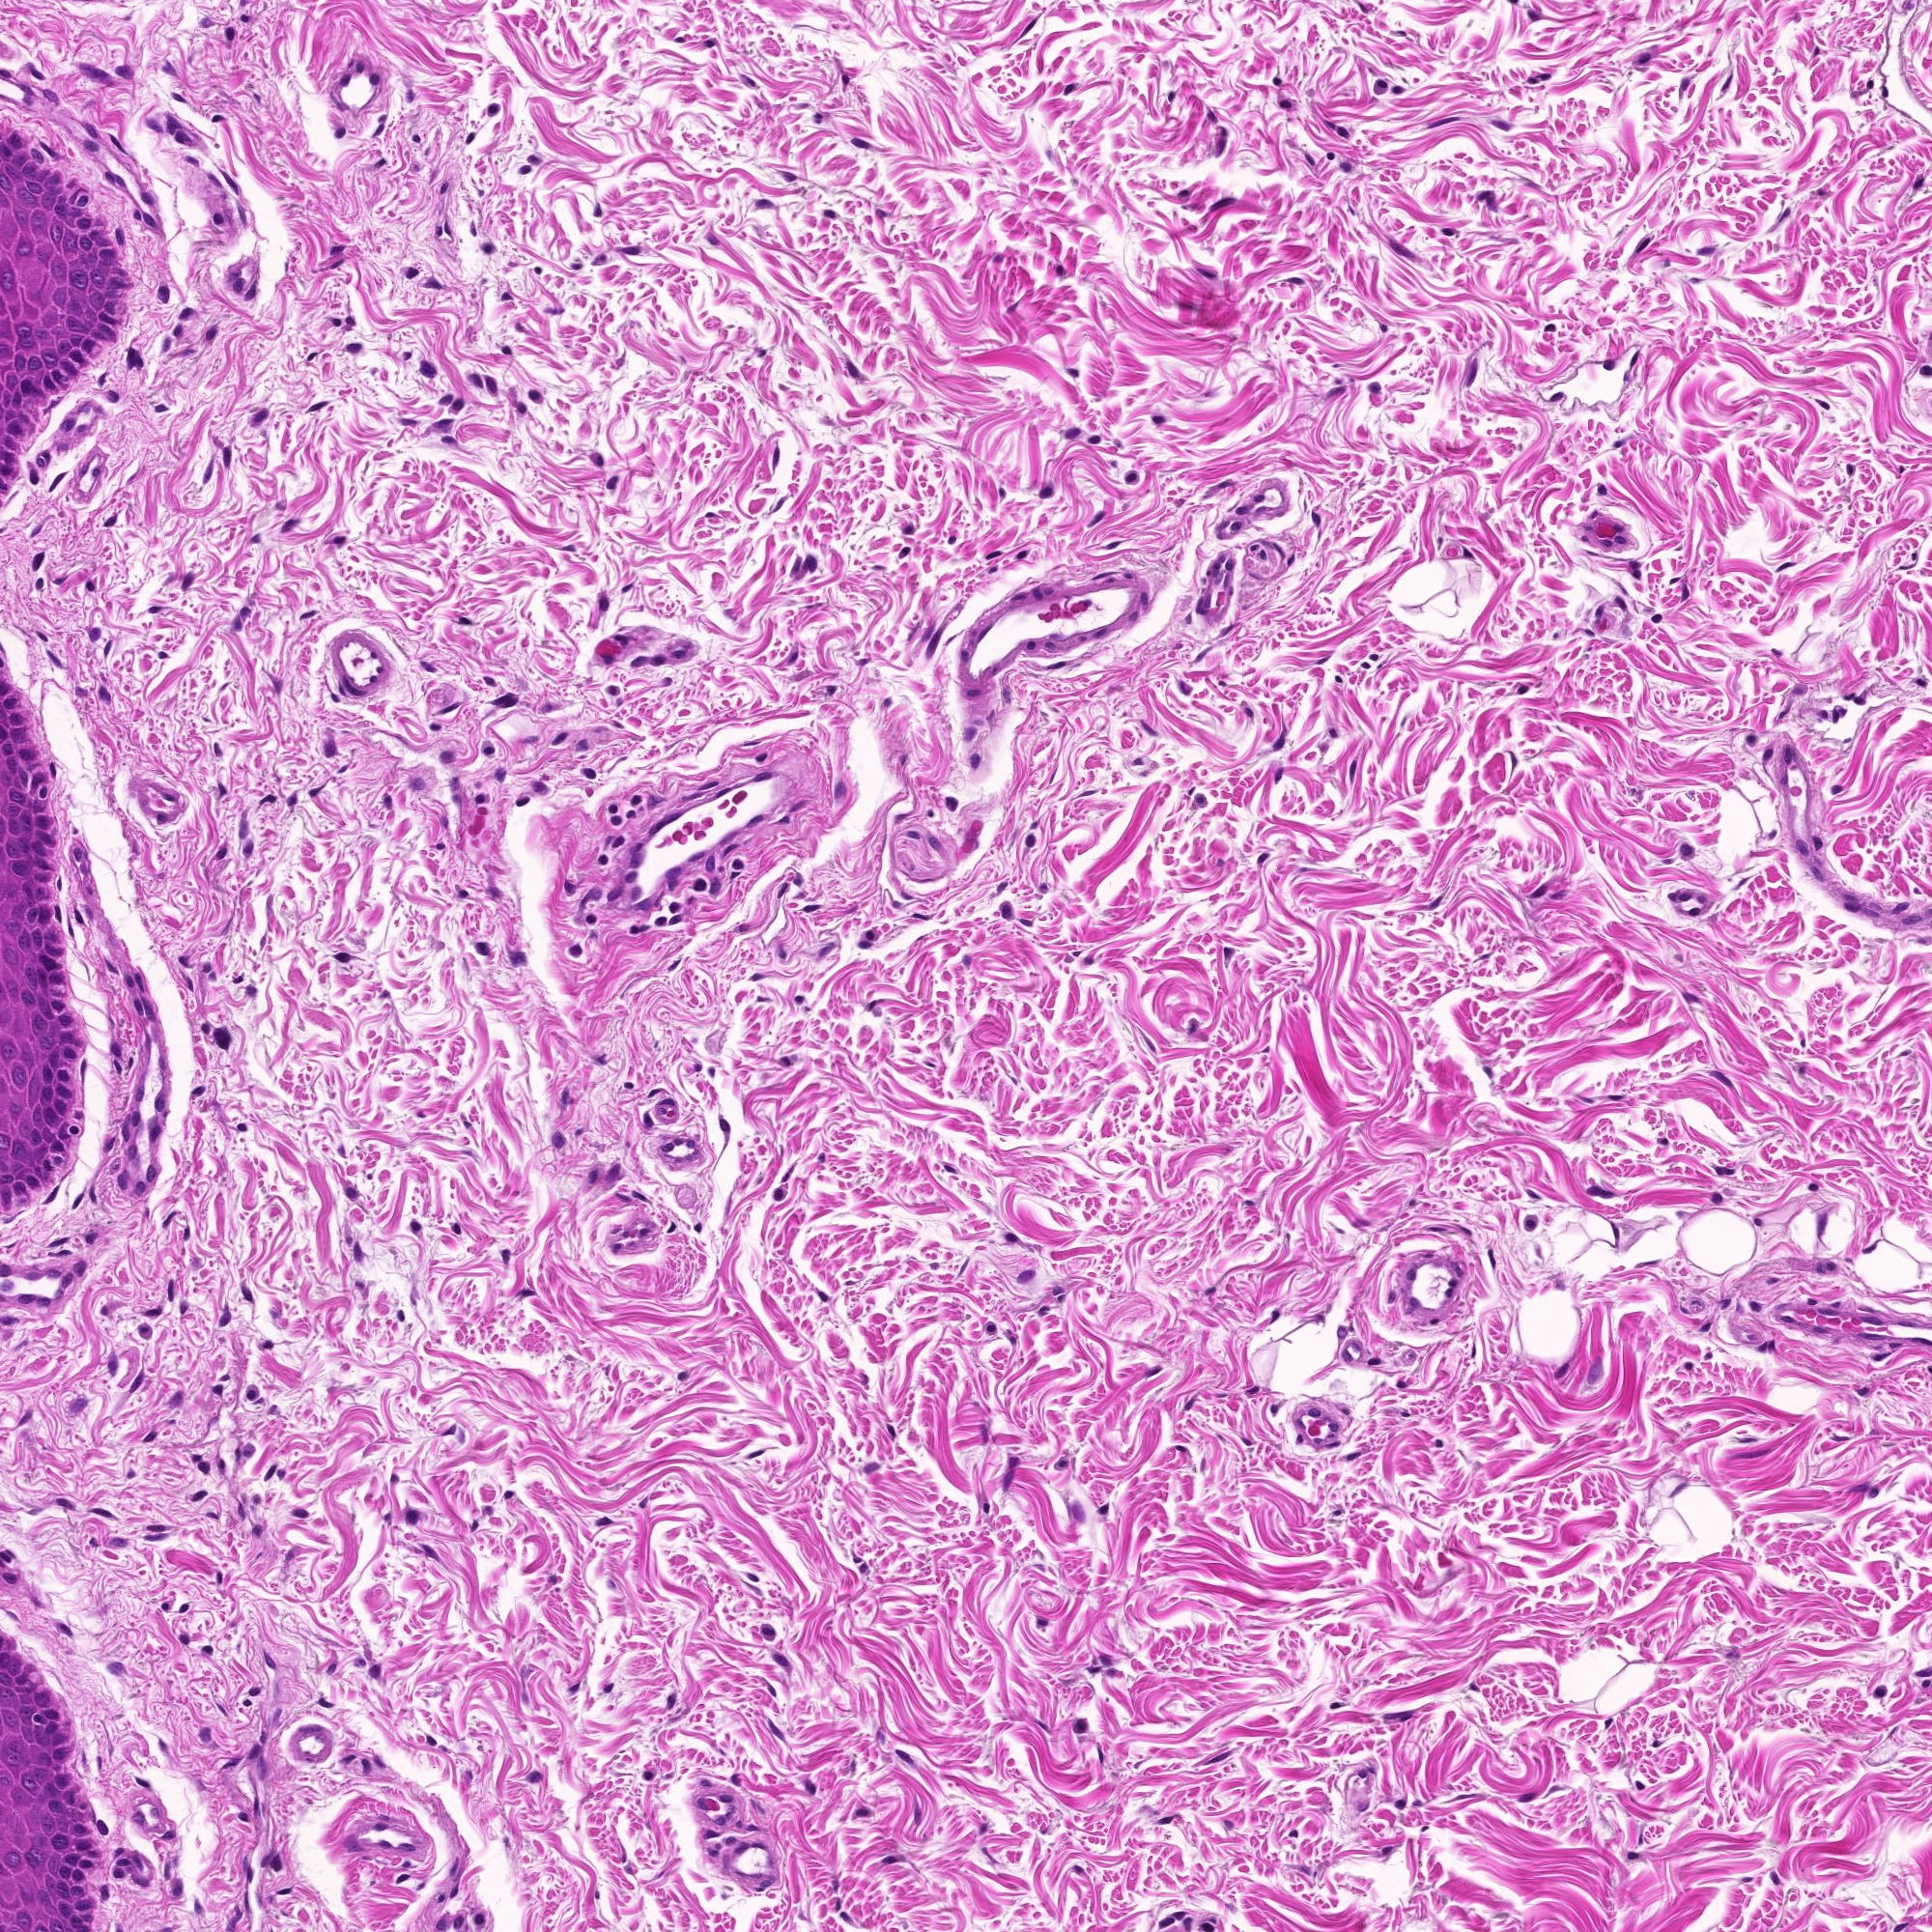epithelial: (18, 754, 50, 787), (41, 1031, 73, 1065), (1207, 464, 1240, 495), (71, 329, 103, 361), (18, 349, 50, 380), (4, 345, 35, 377), (101, 267, 133, 299), (35, 341, 67, 373), (7, 405, 39, 437), (57, 308, 88, 340), (37, 165, 69, 196), (58, 290, 90, 322), (25, 161, 57, 193), (7, 232, 39, 264), (25, 318, 57, 350), (65, 198, 97, 230), (27, 241, 58, 272), (81, 318, 113, 350), (41, 184, 73, 216), (4, 373, 35, 405), (18, 384, 50, 416), (88, 246, 120, 278), (58, 180, 90, 212), (14, 295, 46, 327), (35, 152, 67, 184), (4, 853, 35, 885), (25, 828, 57, 860), (9, 805, 41, 837), (19, 791, 51, 823), (30, 941, 62, 973), (11, 764, 42, 796), (2, 780, 34, 812), (25, 847, 57, 879), (23, 878, 55, 909), (25, 915, 57, 947), (2, 713, 34, 745), (12, 874, 44, 906), (35, 920, 67, 952), (12, 893, 44, 925), (11, 847, 42, 879), (18, 869, 50, 901), (12, 786, 44, 817), (0, 941, 32, 973), (127, 786, 159, 817), (12, 982, 44, 1014), (30, 1077, 62, 1109), (30, 1056, 62, 1088), (34, 1100, 65, 1132), (4, 1173, 35, 1205), (35, 1125, 67, 1157), (11, 1157, 42, 1189), (27, 987, 58, 1019), (34, 1139, 65, 1171), (62, 1389, 94, 1421), (39, 1083, 71, 1115), (161, 1382, 193, 1414), (34, 1067, 65, 1099), (25, 1016, 57, 1047), (25, 1063, 57, 1095), (27, 1093, 58, 1125), (27, 1106, 58, 1138), (2, 1012, 34, 1044), (44, 1737, 76, 1769), (46, 1872, 78, 1904), (34, 1691, 65, 1723), (7, 1900, 39, 1932), (28, 1882, 60, 1914), (65, 1789, 97, 1821), (34, 1783, 65, 1815), (35, 1874, 67, 1905), (216, 1746, 248, 1778), (391, 1831, 423, 1863), (12, 1652, 44, 1684), (57, 1888, 88, 1920), (27, 1752, 58, 1783), (34, 1734, 65, 1766), (292, 1741, 324, 1773), (71, 1865, 103, 1897), (2, 1821, 34, 1852), (27, 1803, 58, 1835), (28, 1776, 60, 1808), (678, 780, 709, 812), (750, 1867, 782, 1898), (835, 1750, 867, 1782), (510, 1656, 541, 1688), (996, 292, 1028, 324), (1185, 295, 1217, 327), (1031, 464, 1063, 495), (1037, 593, 1069, 625), (968, 1415, 1000, 1447), (1346, 1790, 1378, 1822), (1401, 1569, 1433, 1601), (1895, 904, 1927, 936), (1782, 674, 1813, 706), (1569, 520, 1601, 552), (1852, 1304, 1884, 1336), (1854, 1320, 1886, 1352), (1681, 1286, 1713, 1318), (1798, 1300, 1829, 1332), (11, 387, 41, 421), (11, 329, 41, 363), (69, 265, 103, 295), (12, 904, 42, 938), (18, 991, 48, 1024), (73, 1835, 106, 1865), (1580, 1353, 1610, 1387), (12, 370, 42, 402), (34, 364, 64, 396), (69, 207, 99, 239), (42, 361, 73, 393), (55, 352, 85, 384), (90, 303, 122, 333), (44, 195, 76, 225), (18, 166, 48, 198), (21, 140, 51, 172), (60, 264, 92, 294), (25, 373, 57, 403), (9, 320, 39, 352), (81, 221, 111, 253), (2, 384, 32, 416), (92, 239, 124, 269), (5, 143, 35, 175), (48, 333, 80, 363), (60, 324, 92, 354), (67, 184, 97, 216), (92, 290, 124, 320), (0, 414, 30, 446), (4, 133, 34, 165), (55, 230, 85, 262), (35, 386, 65, 418), (73, 244, 103, 276), (50, 345, 81, 375), (44, 255, 74, 287), (44, 352, 76, 382), (27, 361, 58, 391), (42, 218, 73, 249), (12, 180, 44, 211), (76, 299, 108, 329), (9, 138, 41, 168), (23, 207, 55, 237), (88, 228, 120, 258), (5, 311, 35, 343), (104, 257, 134, 288), (51, 165, 81, 196), (21, 280, 51, 311), (76, 214, 106, 246), (80, 237, 111, 267), (19, 366, 51, 396), (65, 255, 96, 287), (50, 258, 81, 288), (58, 212, 90, 242), (48, 225, 78, 257), (2, 295, 34, 326), (28, 172, 60, 202), (4, 400, 34, 432), (81, 274, 111, 306), (18, 237, 50, 267), (32, 899, 62, 931), (19, 922, 51, 952), (11, 750, 41, 782), (21, 899, 51, 931), (32, 823, 64, 853), (37, 934, 69, 964), (27, 775, 58, 805), (2, 895, 34, 925), (27, 931, 58, 961), (5, 743, 35, 775), (4, 754, 34, 786), (11, 858, 41, 890), (19, 812, 50, 844), (2, 916, 34, 947), (62, 837, 92, 869), (9, 720, 39, 752), (21, 939, 51, 971), (5, 798, 37, 828), (11, 773, 41, 805), (4, 770, 34, 801), (4, 729, 35, 759), (12, 821, 44, 851), (16, 885, 46, 916), (5, 816, 35, 847), (73, 876, 104, 906), (12, 936, 44, 966), (51, 1021, 81, 1053), (19, 962, 50, 994), (50, 1005, 81, 1035), (42, 1131, 73, 1162), (16, 1166, 48, 1196), (48, 1058, 78, 1090), (46, 1090, 76, 1122), (28, 1148, 60, 1178), (48, 1076, 78, 1108), (35, 964, 65, 996), (19, 1122, 51, 1152), (4, 1134, 35, 1164), (39, 1044, 69, 1076), (48, 1116, 78, 1148), (4, 1060, 34, 1092), (30, 996, 62, 1026), (19, 1146, 51, 1177), (21, 1100, 53, 1131), (32, 1026, 62, 1058), (27, 1157, 57, 1189), (44, 1017, 76, 1047), (11, 1146, 41, 1178), (108, 1164, 138, 1196), (25, 1131, 55, 1162), (18, 1069, 50, 1099), (0, 1095, 30, 1127), (41, 1106, 71, 1138), (12, 1116, 44, 1146), (2, 1154, 34, 1184), (113, 1108, 143, 1139), (12, 959, 44, 989), (5, 978, 35, 1010), (19, 1079, 51, 1109), (27, 975, 58, 1005), (41, 1053, 71, 1085), (5, 1184, 37, 1214), (57, 1056, 87, 1088), (44, 1824, 74, 1856), (71, 1847, 101, 1879), (57, 1842, 87, 1874), (62, 1859, 92, 1891), (46, 1766, 78, 1796), (55, 1782, 87, 1812), (50, 1856, 80, 1888), (25, 1702, 55, 1734), (18, 1844, 48, 1875), (338, 1829, 368, 1861), (11, 1675, 41, 1707), (41, 1771, 71, 1803), (21, 1759, 51, 1790), (41, 1720, 73, 1750), (27, 1723, 57, 1755), (28, 1743, 60, 1773), (14, 1762, 44, 1794), (19, 1686, 50, 1718), (28, 1709, 58, 1741), (39, 1849, 69, 1881), (2, 1845, 32, 1877), (0, 1736, 30, 1767), (58, 1828, 88, 1859), (48, 1725, 78, 1757), (25, 1826, 57, 1856), (124, 1801, 154, 1833), (12, 1881, 42, 1913), (50, 1882, 80, 1914), (50, 1833, 80, 1865), (0, 1647, 30, 1679), (48, 1787, 80, 1817), (241, 1790, 272, 1821), (48, 1808, 78, 1840), (44, 1902, 76, 1932), (18, 1667, 48, 1698), (19, 1833, 50, 1865), (58, 1794, 88, 1826), (30, 1764, 62, 1794), (2, 1746, 32, 1778), (48, 1748, 78, 1780), (426, 1900, 456, 1932), (71, 1799, 103, 1829), (73, 1877, 103, 1909), (453, 1760, 485, 1790), (21, 1780, 53, 1810), (35, 1863, 67, 1893), (30, 1893, 60, 1925), (248, 1755, 280, 1785), (113, 1851, 143, 1882), (5, 1773, 37, 1803), (628, 888, 658, 920), (824, 773, 855, 805), (886, 743, 918, 773), (786, 660, 817, 690), (796, 591, 828, 621), (628, 1217, 660, 1247), (708, 1803, 738, 1835), (713, 1794, 743, 1826), (713, 1812, 745, 1842), (1194, 272, 1224, 304), (1035, 628, 1065, 660), (1003, 582, 1035, 612), (1210, 571, 1240, 603), (991, 678, 1021, 709), (1100, 561, 1132, 591), (975, 701, 1005, 732), (1113, 559, 1143, 591), (1044, 1276, 1074, 1307), (1345, 1207, 1376, 1237), (1412, 1240, 1444, 1270), (1306, 1072, 1338, 1102), (1311, 1422, 1343, 1453), (1060, 1495, 1090, 1527), (1288, 1854, 1320, 1884), (1591, 527, 1622, 557), (1576, 513, 1606, 545), (1856, 897, 1888, 927), (1621, 777, 1652, 807), (1580, 522, 1612, 552), (1813, 1295, 1844, 1327), (1803, 1315, 1835, 1345), (1543, 1267, 1573, 1299), (1716, 1638, 1748, 1668), (1447, 1780, 1477, 1812), (62, 341, 92, 372), (14, 156, 44, 186), (71, 226, 101, 257), (90, 313, 120, 343), (69, 311, 99, 341), (81, 260, 111, 290), (97, 276, 127, 306), (44, 283, 74, 313), (35, 303, 65, 333), (0, 159, 30, 189), (58, 223, 88, 253), (5, 203, 35, 234), (41, 372, 71, 402), (88, 267, 119, 297), (18, 338, 48, 368), (32, 188, 62, 218), (48, 322, 78, 352), (27, 807, 57, 837), (27, 862, 57, 892), (2, 702, 32, 732), (0, 809, 30, 839), (44, 899, 74, 929), (25, 839, 55, 869), (402, 770, 432, 800), (2, 833, 32, 863), (19, 855, 50, 885), (460, 812, 490, 842), (333, 625, 363, 655), (55, 1039, 85, 1069), (42, 991, 73, 1021), (23, 1007, 53, 1037), (42, 980, 73, 1010), (57, 1028, 87, 1058), (12, 1042, 42, 1072), (119, 1138, 149, 1168), (133, 1026, 163, 1056), (30, 1118, 60, 1148), (27, 959, 57, 989), (14, 970, 44, 1000), (34, 1014, 64, 1044), (5, 1104, 35, 1134), (0, 1164, 30, 1194), (57, 1085, 87, 1115), (67, 1831, 97, 1861), (62, 1875, 92, 1905), (65, 1813, 96, 1844), (37, 1706, 67, 1736), (28, 1683, 58, 1713), (41, 1790, 71, 1821), (50, 1895, 80, 1925), (11, 1697, 41, 1727), (9, 1665, 39, 1695), (60, 1902, 90, 1932), (34, 1810, 64, 1840), (51, 1773, 81, 1803), (18, 1720, 48, 1750), (4, 1782, 34, 1812), (366, 1810, 396, 1840), (444, 1900, 474, 1930), (101, 1652, 131, 1683), (60, 1806, 90, 1836), (48, 1798, 78, 1828), (11, 1711, 41, 1741), (7, 1688, 37, 1718), (16, 1771, 46, 1801), (78, 1844, 108, 1874), (37, 1817, 67, 1847), (11, 1744, 41, 1775), (27, 1842, 57, 1872), (50, 1716, 80, 1746), (57, 1741, 87, 1771), (260, 1702, 290, 1732), (0, 1709, 30, 1739), (598, 879, 628, 909), (782, 791, 812, 821), (550, 1083, 580, 1113), (580, 1879, 610, 1909), (741, 1790, 771, 1821), (741, 1865, 771, 1895), (865, 1720, 895, 1750), (1173, 290, 1203, 320), (1200, 308, 1230, 338), (1322, 375, 1352, 405), (1284, 235, 1315, 265), (1026, 579, 1056, 609), (1187, 591, 1217, 621), (959, 678, 989, 708), (1129, 584, 1159, 614), (1088, 561, 1118, 591), (975, 655, 1005, 685), (1405, 764, 1435, 794), (959, 823, 989, 853), (1396, 1339, 1426, 1369), (1053, 1667, 1083, 1697), (1026, 1709, 1056, 1739), (1900, 168, 1930, 198), (1787, 833, 1817, 863), (1801, 856, 1831, 886), (1587, 517, 1617, 547), (1440, 1253, 1470, 1283), (1603, 1744, 1633, 1775), (55, 202, 87, 230), (2, 122, 30, 154), (12, 738, 41, 770), (23, 766, 51, 798), (9, 832, 41, 860), (34, 867, 62, 899), (41, 1146, 73, 1175), (1299, 1419, 1330, 1447), (83, 285, 113, 313), (35, 180, 65, 209), (27, 345, 57, 373), (80, 207, 110, 235), (0, 366, 28, 396), (18, 327, 48, 356), (12, 925, 41, 955), (2, 791, 30, 821), (69, 1891, 99, 1920), (819, 1870, 849, 1898), (0, 688, 27, 718)
fibroblast and endothelial: (62, 901, 96, 932), (681, 876, 713, 909), (1382, 73, 1414, 106), (975, 1311, 1007, 1345), (1787, 1309, 1821, 1341), (156, 106, 188, 138), (428, 405, 460, 437), (359, 64, 391, 96), (410, 352, 442, 384), (235, 276, 267, 308), (221, 264, 253, 295), (395, 257, 426, 288), (338, 331, 370, 363), (103, 219, 134, 251), (320, 234, 352, 265), (352, 58, 384, 90), (99, 163, 131, 195), (108, 55, 140, 87), (203, 165, 235, 196), (76, 456, 108, 488), (393, 405, 425, 437), (391, 340, 423, 372), (295, 340, 327, 372), (23, 453, 55, 485), (30, 80, 62, 111), (90, 120, 122, 152), (92, 64, 124, 96), (46, 430, 78, 462), (81, 395, 113, 426), (27, 133, 58, 165), (221, 172, 253, 203), (103, 134, 134, 166), (165, 324, 196, 356), (57, 458, 88, 490), (113, 334, 145, 366), (327, 941, 359, 973), (145, 801, 177, 833), (419, 711, 451, 743), (74, 570, 106, 602), (88, 678, 120, 709), (313, 732, 345, 764), (90, 632, 122, 663), (154, 780, 186, 812), (299, 775, 331, 807), (78, 617, 110, 649), (149, 793, 180, 824), (432, 694, 464, 725), (372, 784, 403, 816), (448, 878, 479, 909), (69, 676, 101, 708), (260, 669, 292, 701), (428, 805, 460, 837), (340, 644, 372, 676), (87, 623, 119, 655), (19, 513, 51, 545), (50, 908, 81, 939), (67, 846, 99, 878), (435, 752, 467, 784), (195, 1014, 226, 1046), (35, 1178, 67, 1210), (18, 1284, 50, 1316), (154, 1274, 186, 1306), (138, 1115, 170, 1146), (120, 1366, 152, 1398), (341, 1235, 373, 1267), (120, 964, 152, 996), (235, 975, 267, 1007), (64, 1253, 96, 1284), (133, 994, 165, 1026), (99, 1033, 131, 1065), (223, 962, 255, 994), (124, 1077, 156, 1109), (30, 1256, 62, 1288), (9, 1401, 41, 1433), (120, 975, 152, 1007), (205, 1366, 237, 1398), (41, 1251, 73, 1283), (39, 1283, 71, 1315), (131, 1100, 163, 1132), (27, 1274, 58, 1306), (308, 1686, 340, 1718), (350, 1750, 382, 1782), (127, 1767, 159, 1799), (260, 1849, 292, 1881), (414, 1536, 446, 1568), (234, 1856, 265, 1888), (361, 1746, 393, 1778), (88, 1875, 120, 1907), (416, 1725, 448, 1757), (437, 1875, 469, 1907), (143, 1514, 175, 1546), (343, 1744, 375, 1776), (182, 1891, 214, 1923), (196, 1499, 228, 1530), (226, 1495, 258, 1527), (389, 1844, 421, 1875), (188, 1718, 219, 1750), (140, 1794, 172, 1826), (343, 1645, 375, 1677), (244, 1674, 276, 1706), (226, 1743, 258, 1775), (844, 127, 876, 159), (506, 393, 538, 425), (510, 152, 541, 184), (518, 380, 550, 412), (582, 195, 614, 226), (518, 143, 550, 175), (803, 101, 835, 133), (561, 249, 593, 281), (865, 196, 897, 228), (511, 375, 543, 407), (603, 345, 635, 377), (686, 869, 718, 901), (660, 899, 692, 931), (794, 547, 826, 579), (936, 786, 968, 817), (621, 913, 653, 945), (720, 847, 752, 879), (888, 534, 920, 566), (607, 800, 639, 832), (793, 890, 824, 922), (814, 674, 846, 706), (573, 757, 605, 789), (740, 803, 771, 835), (763, 488, 794, 520), (501, 941, 533, 973), (616, 793, 648, 824), (524, 771, 556, 803), (621, 904, 653, 936), (681, 842, 713, 874), (600, 816, 632, 847), (637, 886, 669, 918), (918, 826, 950, 858), (708, 853, 740, 885), (713, 826, 745, 858), (529, 722, 561, 754), (683, 858, 715, 890), (709, 835, 741, 867), (605, 869, 637, 901), (617, 851, 649, 883), (715, 782, 747, 814), (632, 1104, 663, 1136), (656, 1129, 688, 1161), (637, 1076, 669, 1108), (932, 1152, 964, 1184), (584, 1044, 616, 1076), (667, 1359, 699, 1391), (805, 1141, 837, 1173), (759, 1714, 791, 1746), (740, 1437, 771, 1468), (593, 1672, 625, 1704), (655, 1684, 686, 1716), (794, 1771, 826, 1803), (727, 1810, 759, 1842), (731, 1831, 763, 1863), (750, 1835, 782, 1867), (609, 1844, 640, 1875), (709, 1844, 741, 1875), (1371, 71, 1403, 103), (1014, 9, 1046, 41), (1293, 143, 1325, 175), (1359, 372, 1391, 403), (982, 241, 1014, 272), (1042, 649, 1074, 681), (991, 895, 1023, 927), (1014, 824, 1046, 856), (1085, 616, 1116, 648), (1212, 548, 1244, 580), (994, 538, 1026, 570), (1272, 540, 1304, 571), (1212, 936, 1244, 968), (966, 616, 998, 648), (1132, 713, 1164, 745), (1205, 511, 1237, 543), (1240, 531, 1272, 563), (1010, 906, 1042, 938), (1097, 529, 1129, 561), (1116, 600, 1148, 632), (1065, 621, 1097, 653), (1056, 623, 1088, 655), (1359, 1346, 1391, 1378), (1138, 1355, 1169, 1387), (1258, 1392, 1290, 1424), (1329, 1394, 1361, 1426), (996, 1322, 1028, 1353), (1389, 1398, 1421, 1430), (1327, 1315, 1359, 1346), (1396, 1254, 1428, 1286), (1159, 1898, 1191, 1930), (970, 1490, 1001, 1522), (1187, 1449, 1219, 1481), (1474, 182, 1506, 214), (1626, 228, 1658, 260), (1808, 389, 1840, 421), (1651, 246, 1683, 278), (1822, 699, 1854, 731), (1677, 897, 1709, 929), (1767, 738, 1799, 770), (1668, 577, 1700, 609), (1801, 824, 1833, 856), (1451, 538, 1483, 570), (1583, 594, 1615, 626), (1497, 743, 1529, 775), (1821, 773, 1852, 805), (1706, 1062, 1737, 1093), (1813, 1251, 1845, 1283), (1546, 1353, 1578, 1385), (1739, 1290, 1771, 1322), (1472, 1054, 1504, 1086), (1741, 1205, 1773, 1237), (1516, 1194, 1548, 1226), (1785, 1053, 1817, 1085), (1730, 1421, 1762, 1453), (1865, 1675, 1897, 1707), (441, 387, 471, 421), (211, 198, 244, 228), (380, 1502, 414, 1532), (582, 244, 616, 274), (1421, 106, 1451, 140), (1235, 1185, 1265, 1219), (1888, 1327, 1921, 1357), (163, 111, 193, 143), (343, 51, 375, 81), (119, 341, 149, 373), (216, 166, 248, 196), (214, 18, 244, 50), (97, 58, 129, 88), (18, 462, 50, 492), (19, 58, 51, 88), (85, 58, 115, 90), (28, 444, 60, 474), (138, 111, 170, 142), (432, 382, 462, 414), (418, 269, 449, 299), (131, 182, 163, 212), (149, 278, 180, 308), (74, 131, 106, 161), (51, 407, 81, 439), (460, 363, 490, 395), (324, 117, 356, 147), (41, 462, 73, 492), (455, 122, 487, 152), (202, 203, 234, 234), (428, 214, 460, 244), (35, 136, 67, 166), (124, 198, 154, 230), (202, 103, 234, 133), (195, 318, 225, 350), (246, 400, 276, 432), (364, 147, 396, 177), (175, 145, 207, 175), (193, 458, 223, 490), (165, 81, 195, 113), (363, 111, 395, 142), (428, 173, 460, 203), (154, 53, 184, 85), (58, 412, 90, 442), (324, 87, 354, 119), (76, 57, 108, 87), (320, 248, 352, 278), (50, 418, 81, 448), (172, 336, 203, 366), (341, 64, 372, 96), (444, 380, 474, 412), (444, 214, 476, 244), (458, 214, 488, 246), (437, 396, 467, 428), (140, 207, 170, 239), (423, 166, 455, 196), (90, 375, 122, 405), (205, 430, 237, 460), (67, 393, 97, 425), (67, 455, 99, 485), (12, 81, 44, 111), (5, 460, 37, 490), (317, 308, 349, 338), (21, 545, 51, 577), (267, 784, 299, 814), (25, 568, 55, 600), (94, 506, 124, 538), (448, 605, 479, 635), (338, 674, 368, 706), (274, 510, 306, 540), (172, 564, 202, 596), (37, 752, 67, 784), (205, 837, 237, 867), (320, 679, 350, 711), (140, 593, 170, 625), (292, 600, 324, 630), (228, 817, 258, 849), (234, 833, 265, 863), (324, 524, 354, 556), (333, 665, 363, 697), (46, 564, 76, 596), (219, 837, 251, 867), (202, 734, 234, 764), (205, 775, 237, 805), (221, 609, 253, 639), (228, 596, 260, 626), (357, 663, 387, 695), (425, 830, 456, 860), (451, 784, 483, 814), (239, 522, 269, 554), (166, 943, 198, 973), (34, 568, 65, 598), (441, 780, 472, 810), (265, 490, 295, 522), (327, 754, 359, 784), (285, 784, 317, 814), (464, 782, 494, 814), (347, 676, 379, 706), (276, 787, 308, 817), (329, 658, 359, 690), (30, 761, 62, 791), (55, 916, 87, 947), (232, 1279, 264, 1309), (44, 1226, 76, 1256), (60, 1185, 92, 1215), (136, 1297, 168, 1327), (129, 1315, 159, 1346), (74, 1223, 106, 1253), (9, 1283, 39, 1315), (30, 1286, 60, 1318), (226, 1111, 257, 1143), (237, 1378, 267, 1410), (400, 1212, 432, 1242), (67, 1051, 97, 1083), (202, 1373, 234, 1403), (251, 1329, 281, 1361), (386, 1299, 416, 1330), (134, 1421, 165, 1453), (209, 1304, 241, 1334), (97, 1350, 127, 1382), (334, 1177, 366, 1207), (166, 1293, 198, 1323), (103, 1049, 134, 1079), (48, 1178, 78, 1210), (58, 1115, 90, 1145), (435, 1414, 465, 1445), (228, 970, 260, 1000), (142, 1100, 173, 1131), (336, 1224, 366, 1256), (110, 1118, 142, 1148), (173, 970, 205, 1000), (88, 1295, 120, 1325), (370, 978, 400, 1010), (343, 1270, 375, 1300), (46, 1274, 76, 1306), (103, 1123, 134, 1154), (257, 1394, 288, 1424), (113, 1131, 143, 1162), (260, 1297, 290, 1329), (129, 1164, 161, 1194), (136, 1311, 168, 1341), (198, 1088, 228, 1120), (88, 1497, 119, 1529), (188, 1451, 218, 1483), (184, 1479, 214, 1511), (196, 1449, 228, 1479), (395, 1500, 426, 1530), (50, 1488, 80, 1520), (258, 1456, 290, 1486), (170, 1622, 200, 1654), (87, 1812, 119, 1842), (361, 1654, 391, 1686), (269, 1875, 299, 1907), (50, 1612, 80, 1644), (386, 1863, 418, 1893), (103, 1854, 134, 1884), (237, 1677, 267, 1709), (191, 1635, 223, 1665), (120, 1845, 150, 1877), (426, 1881, 456, 1913), (127, 1865, 157, 1897), (150, 1591, 182, 1621), (103, 1527, 134, 1557), (152, 1821, 184, 1851), (239, 1736, 269, 1767), (241, 1514, 271, 1546), (462, 1900, 492, 1932), (297, 1716, 329, 1746), (104, 1842, 134, 1874), (253, 1845, 285, 1875), (456, 1509, 487, 1541), (203, 1562, 235, 1592), (377, 1463, 409, 1493), (85, 1527, 117, 1557), (437, 1867, 469, 1897), (147, 1730, 179, 1760), (115, 1458, 145, 1490), (372, 1502, 402, 1534), (205, 1447, 237, 1477), (230, 1886, 262, 1916), (226, 1438, 258, 1468), (244, 1746, 276, 1776), (274, 1539, 306, 1569), (225, 1895, 255, 1927), (248, 1721, 280, 1752), (120, 1859, 152, 1890), (214, 1442, 246, 1472), (136, 1865, 166, 1897), (207, 1693, 237, 1725), (761, 439, 791, 471), (837, 354, 867, 386), (584, 444, 614, 476), (694, 28, 725, 58), (490, 280, 522, 310), (616, 235, 648, 265), (830, 62, 860, 94), (775, 161, 805, 193), (490, 334, 522, 364), (814, 198, 846, 228), (596, 464, 628, 494), (665, 23, 695, 55), (697, 225, 729, 255), (540, 295, 570, 327), (479, 92, 510, 124), (640, 644, 671, 676), (628, 784, 660, 814), (646, 906, 676, 938), (492, 685, 524, 715), (607, 625, 637, 656), (506, 786, 536, 817), (920, 623, 952, 653), (602, 826, 632, 858), (904, 901, 936, 931), (701, 869, 731, 901), (485, 759, 517, 789), (658, 890, 690, 920), (596, 674, 628, 704), (656, 801, 686, 833), (593, 642, 623, 674), (587, 844, 617, 876), (663, 639, 695, 669), (575, 879, 607, 909), (747, 741, 777, 773), (587, 586, 617, 617), (853, 925, 883, 957), (916, 632, 947, 663), (777, 867, 807, 899), (694, 847, 725, 878), (770, 803, 800, 835), (706, 775, 736, 807), (619, 876, 649, 908), (936, 522, 966, 554), (669, 886, 701, 916), (621, 837, 651, 869), (695, 770, 727, 800), (639, 786, 669, 817), (777, 642, 809, 672), (897, 617, 927, 649), (897, 819, 929, 849), (658, 874, 688, 906), (616, 865, 646, 897), (870, 686, 901, 718), (695, 499, 725, 531), (736, 727, 766, 759), (612, 571, 642, 603), (653, 814, 685, 844), (663, 855, 695, 885), (908, 616, 939, 646), (603, 646, 635, 676), (766, 938, 796, 970), (483, 685, 513, 717), (669, 869, 701, 899), (750, 761, 782, 791), (908, 823, 939, 853), (847, 646, 879, 676), (718, 858, 748, 890), (927, 616, 959, 646), (646, 892, 678, 922), (784, 876, 814, 908), (579, 918, 609, 950), (658, 943, 690, 973), (750, 805, 782, 835), (692, 862, 722, 893), (589, 632, 621, 662), (916, 612, 948, 642), (927, 628, 959, 658), (793, 554, 823, 586), (709, 1109, 740, 1141), (490, 1238, 520, 1270), (510, 1277, 541, 1307), (876, 1415, 908, 1445), (648, 1088, 679, 1118), (807, 1281, 839, 1311), (598, 1157, 628, 1189), (763, 1178, 794, 1208), (625, 1180, 655, 1212), (681, 1212, 713, 1242), (740, 961, 771, 991), (579, 1159, 609, 1191), (674, 1129, 706, 1159), (685, 1054, 717, 1085), (591, 1161, 621, 1192), (747, 984, 778, 1014), (616, 1217, 648, 1247), (607, 1215, 637, 1247), (849, 1362, 879, 1394), (648, 1215, 679, 1246), (637, 1097, 667, 1129), (660, 1141, 690, 1173), (653, 1095, 685, 1125), (888, 1741, 920, 1771), (752, 1617, 784, 1647), (743, 1829, 773, 1861), (589, 1506, 619, 1537), (876, 1844, 908, 1874), (720, 1829, 752, 1859), (520, 1760, 550, 1792), (633, 1759, 663, 1790), (828, 1900, 860, 1930), (720, 1762, 752, 1792), (738, 1812, 768, 1844), (559, 1672, 589, 1704), (690, 1769, 722, 1799), (855, 1453, 886, 1483), (711, 1782, 741, 1813), (846, 1550, 878, 1580), (704, 1821, 736, 1851), (826, 1891, 856, 1923), (538, 1562, 568, 1594), (626, 1488, 658, 1518), (713, 1775, 745, 1805), (614, 1852, 644, 1884), (513, 1552, 543, 1583), (741, 1821, 773, 1851), (1208, 186, 1240, 216), (1207, 120, 1238, 150), (1077, 425, 1109, 455), (1327, 117, 1359, 147), (1269, 88, 1300, 119), (1054, 73, 1086, 103), (1279, 265, 1311, 295), (1056, 416, 1086, 448), (1263, 65, 1293, 97), (1330, 150, 1361, 182), (1205, 129, 1237, 159), (1058, 356, 1088, 387), (1143, 403, 1173, 435), (1044, 255, 1076, 285), (1320, 111, 1350, 143), (1364, 67, 1394, 99), (1155, 80, 1185, 111), (1368, 311, 1399, 341), (1380, 228, 1410, 260), (1171, 186, 1203, 216), (1221, 511, 1253, 541), (1016, 628, 1046, 660), (1265, 727, 1295, 759), (1246, 540, 1277, 570), (1005, 540, 1037, 570), (1083, 502, 1115, 533), (1421, 886, 1451, 918), (1254, 534, 1284, 566), (1263, 759, 1293, 791), (1198, 554, 1230, 584), (1318, 717, 1348, 748), (1069, 589, 1099, 621), (987, 885, 1017, 916), (1212, 614, 1244, 644), (1246, 495, 1276, 527), (1028, 872, 1058, 904), (1033, 600, 1063, 632), (1072, 777, 1104, 807), (1039, 637, 1069, 669), (1019, 809, 1051, 839), (1263, 533, 1293, 564), (1210, 559, 1242, 589), (1014, 580, 1046, 610), (1031, 614, 1062, 646), (1263, 495, 1293, 527), (1189, 580, 1219, 612), (1247, 527, 1277, 559), (1219, 501, 1249, 533), (1260, 1299, 1290, 1330), (1334, 1338, 1364, 1369), (1394, 1265, 1426, 1295), (1237, 1373, 1267, 1405), (1010, 1260, 1042, 1290), (1302, 1302, 1334, 1332), (1339, 1332, 1371, 1362), (1375, 1281, 1407, 1311), (1318, 1412, 1348, 1444), (1398, 1288, 1430, 1318), (1178, 1010, 1208, 1042), (1419, 1304, 1449, 1336), (1300, 1405, 1330, 1437), (1332, 1325, 1362, 1357), (1421, 1212, 1451, 1244), (1136, 1028, 1166, 1060), (1150, 1803, 1180, 1835), (1090, 1644, 1120, 1675), (1077, 1654, 1108, 1686), (993, 1463, 1023, 1495), (1086, 1495, 1118, 1525), (1336, 1440, 1366, 1472), (1385, 1787, 1415, 1819), (1320, 1688, 1350, 1720), (1371, 1835, 1401, 1867), (1380, 1698, 1410, 1730), (1095, 1656, 1127, 1686), (1085, 1739, 1116, 1769), (968, 1813, 1000, 1844), (1368, 1702, 1398, 1734), (971, 1840, 1003, 1870), (1859, 71, 1890, 103), (1835, 453, 1865, 485), (1870, 76, 1900, 108), (1769, 198, 1799, 230), (1805, 177, 1836, 207), (1601, 428, 1633, 458), (1514, 168, 1546, 198), (1851, 76, 1881, 108), (1518, 2, 1550, 32), (1886, 453, 1916, 485), (1842, 685, 1874, 715), (1660, 879, 1691, 909), (1886, 890, 1916, 922), (1836, 892, 1868, 922), (1601, 511, 1631, 543), (1684, 892, 1716, 922), (1757, 817, 1787, 849), (1580, 499, 1610, 531), (1760, 637, 1792, 667), (1891, 550, 1921, 582), (1778, 741, 1808, 773), (1476, 1242, 1507, 1272), (1752, 1330, 1783, 1361), (1893, 1307, 1925, 1338), (1709, 1286, 1741, 1316), (1599, 1215, 1631, 1246), (1805, 1208, 1836, 1238), (1674, 1350, 1704, 1382), (1863, 1341, 1895, 1371), (1674, 982, 1706, 1012), (1773, 1304, 1803, 1336), (1437, 1269, 1468, 1299), (1633, 1247, 1665, 1277), (1647, 1125, 1677, 1157), (1879, 1329, 1911, 1359), (1693, 1339, 1723, 1371), (1571, 1085, 1603, 1115), (1757, 1263, 1787, 1295), (1805, 1253, 1835, 1284), (1576, 1175, 1608, 1205), (1891, 1037, 1921, 1069), (1594, 1178, 1624, 1210), (1511, 1782, 1543, 1812), (1617, 1840, 1647, 1872), (1845, 1474, 1877, 1504), (1760, 1863, 1790, 1895), (1663, 1474, 1695, 1504), (1626, 1822, 1656, 1854), (1730, 1865, 1762, 1895), (303, 391, 333, 421), (166, 122, 196, 152), (226, 272, 257, 303), (163, 315, 193, 345), (329, 306, 359, 336), (329, 64, 359, 94), (101, 127, 131, 157), (172, 297, 202, 327), (433, 425, 464, 455), (76, 117, 106, 147), (99, 382, 129, 412), (9, 73, 39, 103), (145, 393, 175, 423), (87, 363, 117, 393), (230, 4, 260, 34), (166, 306, 196, 336), (154, 117, 184, 147), (226, 198, 257, 228), (154, 327, 184, 357), (395, 80, 425, 110), (209, 182, 239, 212), (97, 320, 127, 350), (71, 410, 101, 441), (96, 156, 126, 186), (207, 12, 237, 42), (255, 784, 285, 814), (39, 644, 69, 674), (412, 651, 442, 681), (60, 909, 90, 939), (432, 741, 462, 771), (27, 621, 57, 651), (439, 766, 469, 796), (147, 639, 177, 669), (327, 676, 357, 706), (363, 656, 393, 686), (465, 932, 495, 962), (156, 563, 186, 593), (71, 899, 101, 929), (55, 568, 85, 598), (207, 1024, 237, 1054), (94, 1129, 124, 1159), (152, 1203, 182, 1233), (143, 1088, 173, 1118), (182, 1076, 212, 1106), (48, 1237, 78, 1267), (44, 1261, 74, 1292), (441, 1214, 471, 1244), (51, 1265, 81, 1295), (78, 1180, 108, 1210), (172, 1217, 202, 1247), (136, 1159, 166, 1189), (126, 991, 156, 1021), (120, 1102, 150, 1132), (18, 1260, 48, 1290), (205, 1014, 235, 1044), (147, 1047, 177, 1077), (451, 1108, 481, 1138), (326, 1134, 356, 1164), (182, 1444, 212, 1474), (168, 1592, 198, 1622), (285, 1497, 315, 1527), (161, 1872, 191, 1902), (228, 1801, 258, 1831), (333, 1743, 363, 1773), (255, 1645, 285, 1675), (370, 1829, 400, 1859), (241, 1484, 271, 1514), (317, 1652, 347, 1683), (152, 1854, 182, 1884), (439, 1856, 469, 1886), (382, 1829, 412, 1859), (138, 1522, 168, 1552), (71, 1900, 101, 1930), (21, 1585, 51, 1615), (396, 1867, 426, 1897), (244, 1851, 274, 1881), (269, 1458, 299, 1488), (405, 1870, 435, 1900), (748, 188, 778, 218), (734, 67, 764, 97), (513, 387, 543, 418), (628, 646, 658, 676), (600, 798, 630, 828), (642, 812, 672, 842), (545, 722, 575, 752), (575, 902, 605, 932), (725, 782, 755, 812), (658, 863, 688, 893), (561, 934, 591, 964), (619, 784, 649, 814), (892, 518, 922, 548), (782, 552, 812, 582), (554, 870, 584, 901), (768, 874, 798, 904), (570, 886, 600, 916), (653, 665, 683, 695), (568, 729, 598, 759), (809, 936, 839, 966), (676, 814, 706, 844), (533, 692, 563, 722), (886, 801, 916, 832), (669, 633, 699, 663), (639, 800, 669, 830), (479, 878, 510, 908), (651, 644, 681, 674), (727, 913, 757, 943), (644, 821, 674, 851), (669, 810, 699, 840), (863, 552, 893, 582), (683, 819, 713, 849), (612, 824, 642, 855), (515, 778, 545, 809), (665, 1127, 695, 1157), (656, 1212, 686, 1242), (602, 1231, 632, 1261), (784, 984, 814, 1014), (609, 1184, 639, 1214), (543, 1123, 573, 1154), (771, 1161, 801, 1191), (858, 991, 888, 1021), (771, 1046, 801, 1076), (768, 1171, 798, 1201), (616, 1230, 646, 1260), (649, 1134, 679, 1164), (701, 1836, 731, 1867), (768, 1645, 798, 1675), (847, 1796, 878, 1826), (694, 1817, 724, 1847), (688, 1789, 718, 1819), (755, 1674, 786, 1704), (738, 1562, 768, 1592), (715, 1824, 745, 1854), (902, 1799, 932, 1829), (823, 1884, 853, 1914), (755, 1845, 786, 1875), (729, 1861, 759, 1891), (1169, 177, 1200, 207), (1192, 258, 1223, 288), (1387, 235, 1417, 265), (1196, 101, 1226, 131), (1180, 191, 1210, 221), (1200, 189, 1230, 219), (1387, 18, 1417, 48), (1325, 145, 1355, 175), (978, 540, 1008, 570), (1226, 494, 1256, 524), (1300, 502, 1330, 533), (1184, 784, 1214, 814), (1338, 752, 1368, 782), (1244, 481, 1274, 511), (961, 745, 991, 775), (1247, 842, 1277, 872), (985, 870, 1016, 901), (1233, 695, 1263, 725), (977, 554, 1007, 584), (1178, 600, 1208, 630), (1203, 545, 1233, 575), (1185, 640, 1215, 671), (1307, 644, 1338, 674), (1175, 777, 1205, 807), (1164, 487, 1194, 517), (996, 1223, 1026, 1253), (1299, 1396, 1329, 1426), (1028, 1295, 1058, 1325), (1385, 1369, 1415, 1399), (1173, 1389, 1203, 1419), (1194, 1276, 1224, 1306), (1309, 1403, 1339, 1433), (1391, 1286, 1421, 1316), (1391, 1700, 1421, 1730), (1203, 1743, 1233, 1773), (1065, 1709, 1095, 1739), (998, 1447, 1028, 1477), (1046, 1447, 1076, 1477), (1026, 1606, 1056, 1637), (1352, 1757, 1382, 1787), (1063, 1854, 1093, 1884), (1169, 1902, 1200, 1932), (1192, 1900, 1223, 1930), (1322, 1497, 1352, 1527), (1150, 1902, 1180, 1932), (1594, 349, 1624, 379), (1525, 62, 1555, 92), (1619, 343, 1649, 373), (1541, 382, 1571, 412), (1486, 110, 1516, 140), (1456, 357, 1486, 387), (1691, 235, 1721, 265), (1534, 311, 1564, 341), (1668, 69, 1698, 99), (1612, 363, 1642, 393), (1668, 881, 1698, 911), (1525, 876, 1555, 906), (1736, 724, 1766, 754), (1769, 550, 1799, 580), (1605, 587, 1635, 617), (1752, 738, 1782, 768), (1812, 699, 1842, 729), (1683, 883, 1713, 913), (1621, 556, 1651, 586), (1507, 674, 1537, 704), (1672, 835, 1702, 865), (1833, 681, 1863, 711), (1605, 524, 1635, 554), (1665, 570, 1695, 600), (1767, 699, 1798, 729), (1769, 764, 1799, 794), (1897, 545, 1927, 575), (1587, 605, 1617, 635), (1667, 892, 1697, 922), (1835, 883, 1865, 913), (1727, 867, 1757, 897), (1707, 1155, 1737, 1185), (1514, 1207, 1545, 1237), (1854, 1233, 1884, 1263), (1702, 1182, 1732, 1212), (1798, 1171, 1828, 1201), (1518, 1180, 1548, 1210), (1847, 1376, 1877, 1407), (1691, 1311, 1721, 1341), (1451, 1215, 1481, 1246), (1796, 1286, 1826, 1316), (1867, 1325, 1897, 1355), (1900, 1325, 1930, 1355), (1458, 1336, 1488, 1366), (1743, 1327, 1773, 1357), (1824, 1422, 1854, 1453), (1672, 1293, 1702, 1323), (1734, 1438, 1764, 1468), (1592, 1707, 1622, 1737), (359, 637, 387, 669), (126, 1169, 154, 1201), (159, 1283, 188, 1315), (0, 1304, 28, 1336), (352, 1651, 384, 1679), (747, 338, 778, 366), (479, 932, 508, 964), (674, 1141, 702, 1173), (842, 1543, 870, 1575), (1629, 44, 1658, 76), (1437, 216, 1465, 248), (1798, 835, 1826, 867), (1587, 1175, 1615, 1207), (1599, 1083, 1631, 1111), (212, 439, 241, 469), (134, 202, 165, 230), (191, 7, 219, 37), (58, 1261, 88, 1290), (85, 1746, 113, 1776), (479, 370, 508, 400), (747, 754, 775, 784), (662, 821, 692, 849), (517, 724, 545, 754), (1116, 464, 1146, 492), (1169, 674, 1200, 702), (1031, 479, 1062, 508), (1713, 69, 1741, 99), (1545, 879, 1573, 909), (1859, 1476, 1888, 1506), (479, 665, 506, 697), (0, 1541, 27, 1571), (479, 734, 506, 764)
inflammatory: (1422, 1422, 1453, 1453), (467, 232, 495, 264), (467, 734, 495, 764)
lymphocyte: (230, 1686, 264, 1718), (897, 800, 931, 832), (400, 122, 432, 154), (113, 1046, 145, 1077), (602, 708, 633, 740), (918, 1249, 950, 1281), (1357, 642, 1389, 674), (1322, 663, 1353, 695), (1401, 1787, 1433, 1819), (1573, 616, 1605, 648), (44, 867, 74, 899), (405, 1099, 437, 1129), (177, 1626, 209, 1656), (502, 311, 534, 341), (915, 796, 945, 828), (888, 881, 920, 911), (612, 1070, 644, 1100), (695, 1054, 725, 1086), (563, 1116, 594, 1146), (492, 1479, 524, 1509), (1315, 140, 1346, 170), (1350, 649, 1382, 679), (1072, 943, 1104, 973), (1284, 1421, 1315, 1453), (1231, 1422, 1263, 1453), (1277, 1817, 1309, 1847), (1214, 1808, 1244, 1840), (1801, 35, 1831, 67), (1642, 602, 1672, 633), (1658, 564, 1690, 594), (1787, 1026, 1817, 1058), (1624, 1769, 1654, 1801), (1640, 1729, 1672, 1759), (64, 1100, 94, 1131), (522, 255, 552, 285), (881, 888, 911, 918), (554, 533, 584, 563), (1122, 747, 1152, 777), (1284, 1408, 1315, 1438), (1410, 1812, 1440, 1842), (1458, 1672, 1488, 1702), (1398, 1187, 1426, 1219), (711, 1766, 741, 1794)
